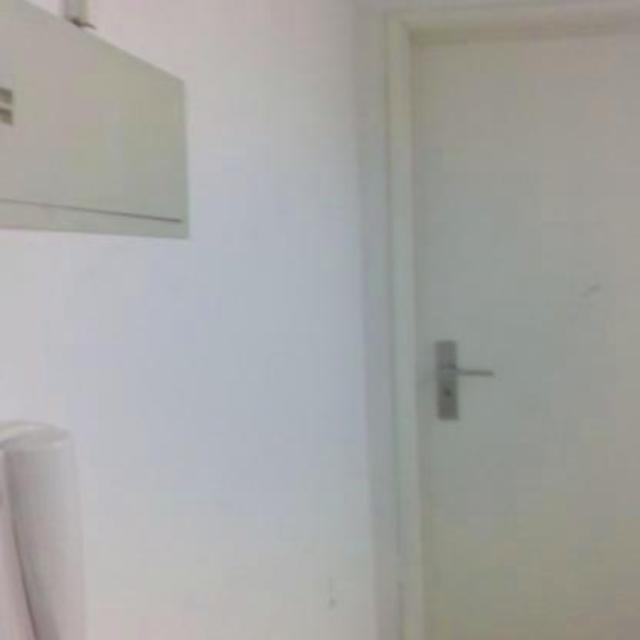door: (386, 0, 638, 638)
